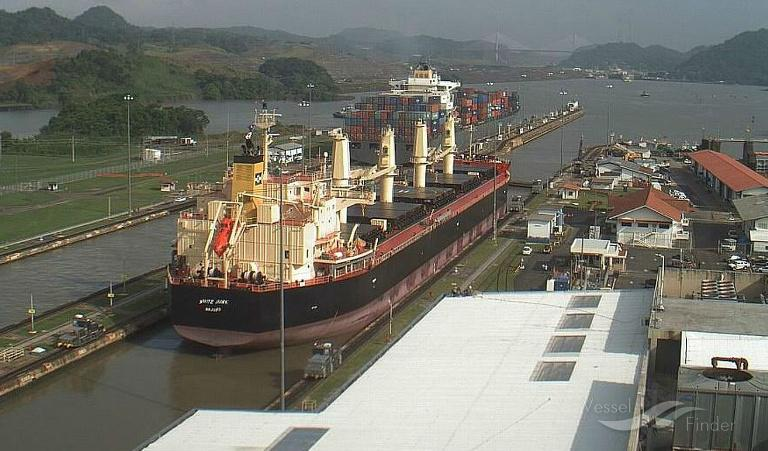OCR: (196, 293, 234, 323)
